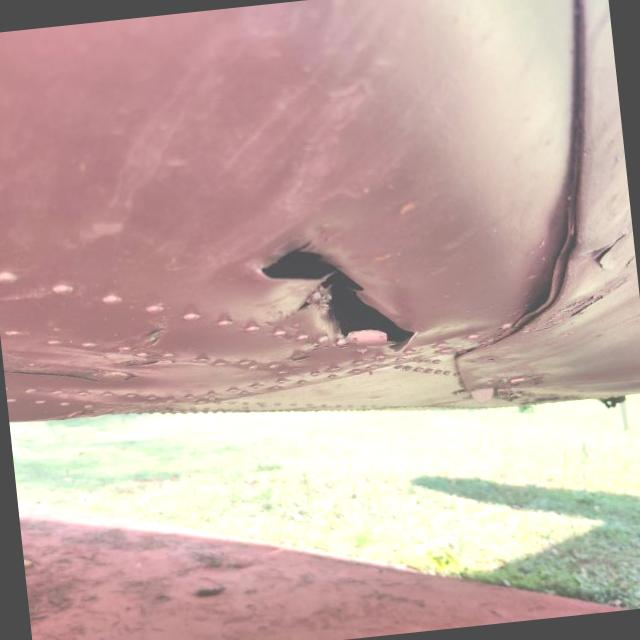dent: (487, 180, 622, 348)
